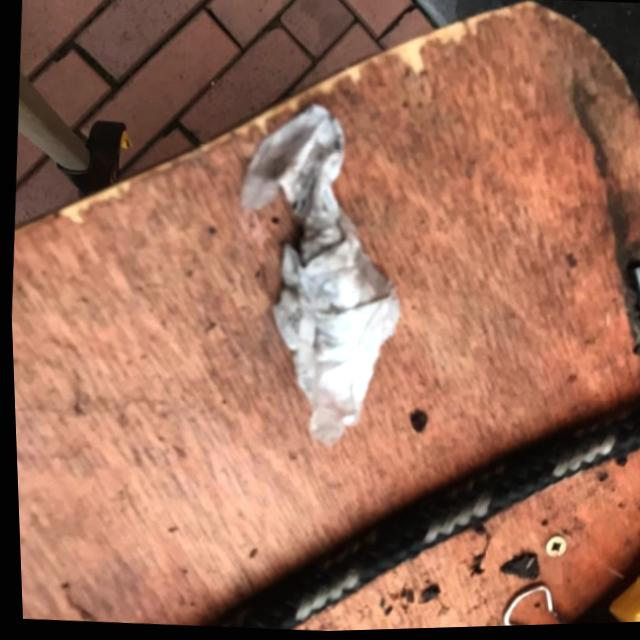Paper: (214, 94, 418, 457)
